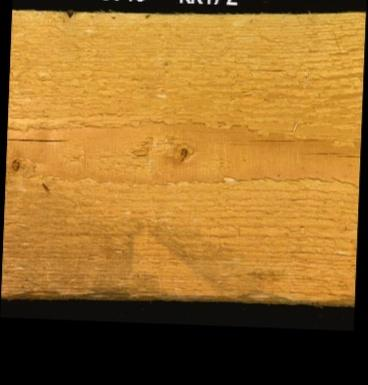dry_knot: (7, 153, 21, 172)
split: (245, 134, 298, 143), (6, 135, 72, 142), (310, 149, 360, 156)
wave: (0, 288, 354, 302)
